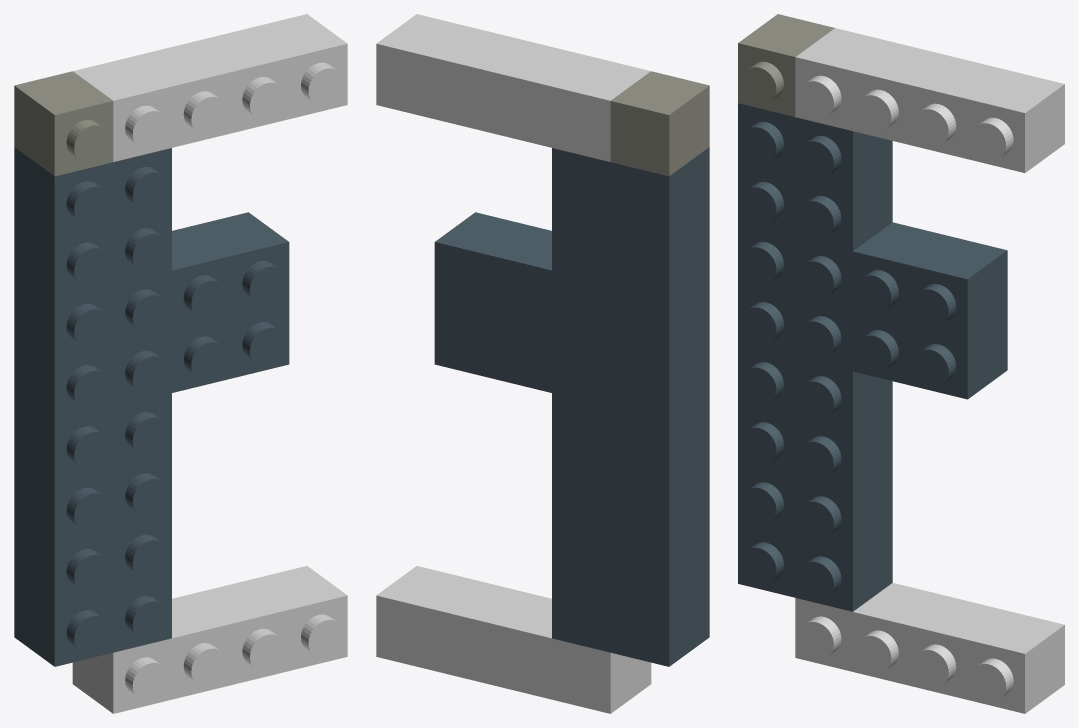
File: current.glb
3 views of the same model, side by side, from view 1: azimuth 30°, elevation 25°; view 2: azimuth 150°, elevation 25°; view 3: azimuth 330°, elevation 25° (orthographic). The views are drawn at different scales.
Parts seen in each view (by area): view 1: world; view 2: world; view 3: world.
Boxes of the visible parts, x1,y1,x2,y2 form: world: [14, 14, 347, 713]; world: [376, 14, 709, 713]; world: [738, 14, 1064, 713].
Size of the model in its own units: 40 by 80 by 11.4.
